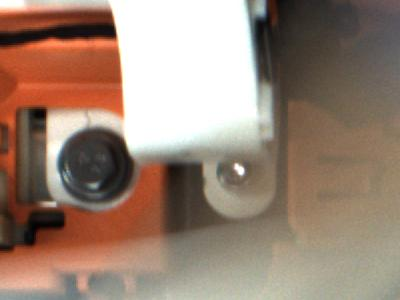nut_b: (53, 129, 129, 200)
